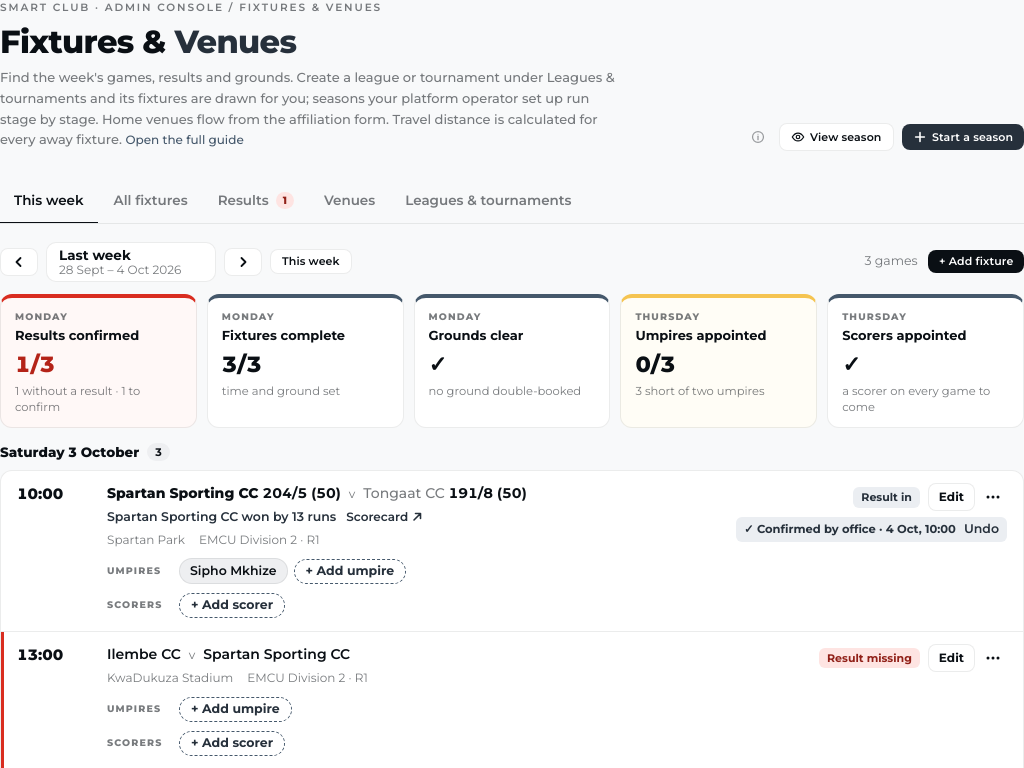
Test: This week › the Round default follows the series picked (not the first series shown)
Click the button "+ Add fixture" at x=976, y=262, box x1=928 y1=250 x2=1023 y2=273
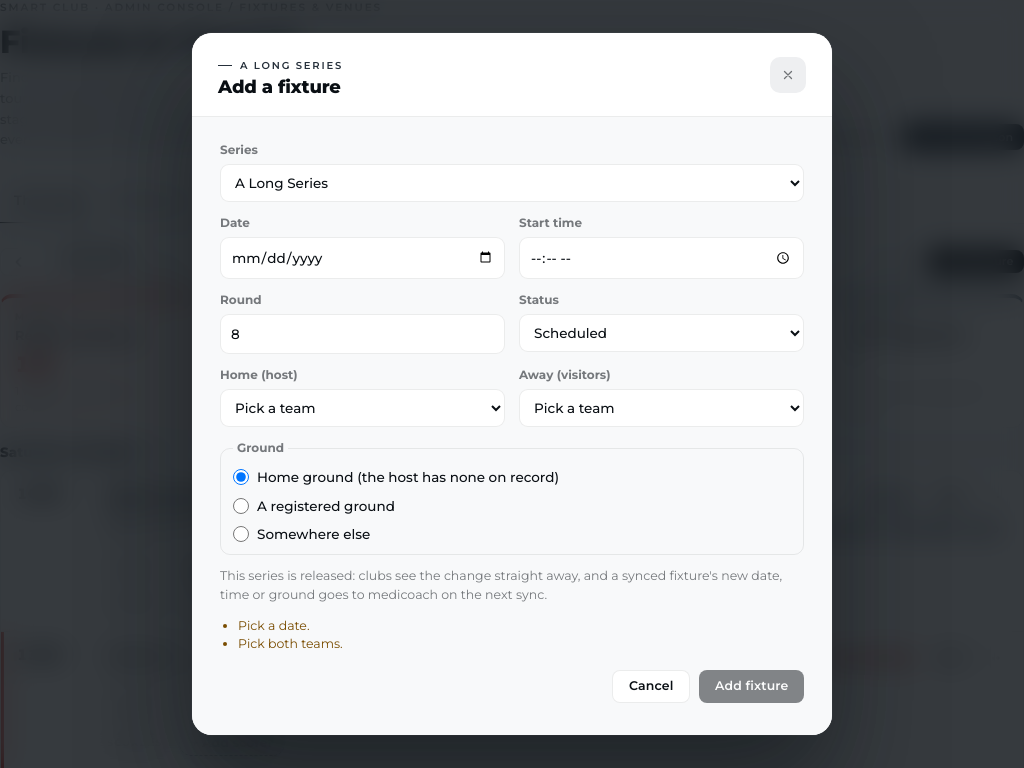
expect the number field labelled "Round" holds "8": met, box x1=220 y1=314 x2=505 y2=354
Select "EMCU Division 2" in the dropdown labelled "Series" at x=512, y=183, box x1=220 y1=164 x2=804 y2=202
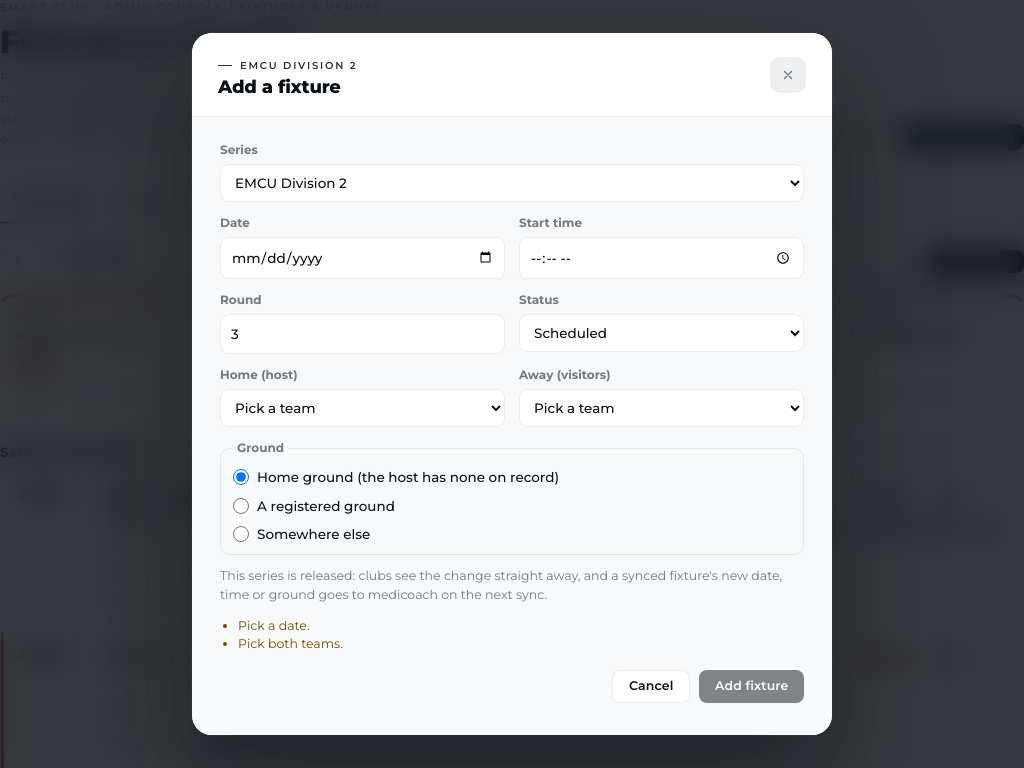
expect the number field labelled "Round" holds "3": met, box x1=220 y1=314 x2=505 y2=354
